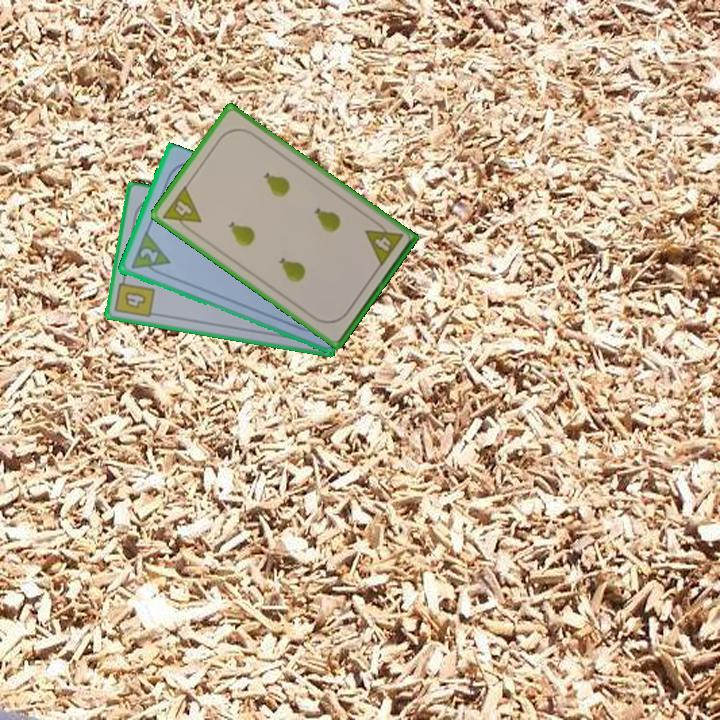2p: (136, 244, 161, 265)
4b: (111, 272, 157, 321)
4p: (159, 182, 204, 236), (361, 217, 406, 269)
